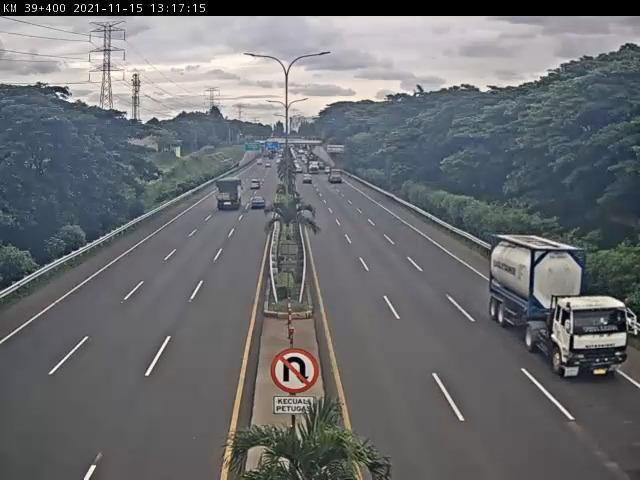car: (250, 196, 268, 212)
truck: (489, 239, 630, 388), (215, 175, 245, 213)
